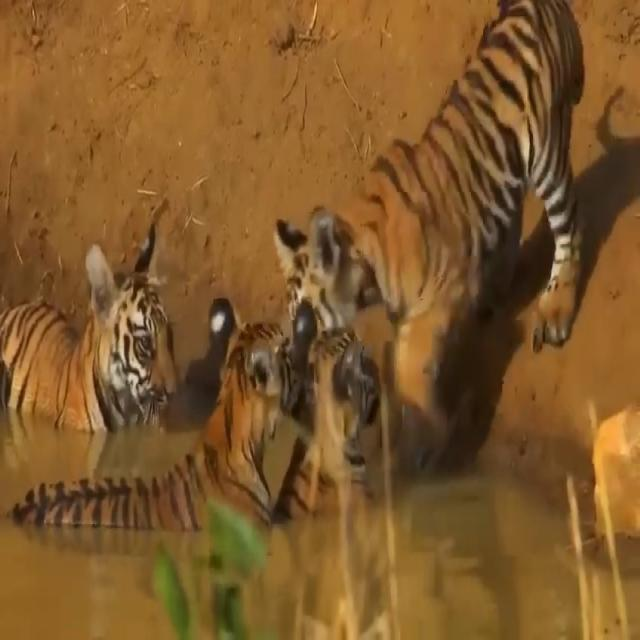tiger: (272, 0, 586, 348), (0, 295, 317, 541), (0, 223, 179, 432)
